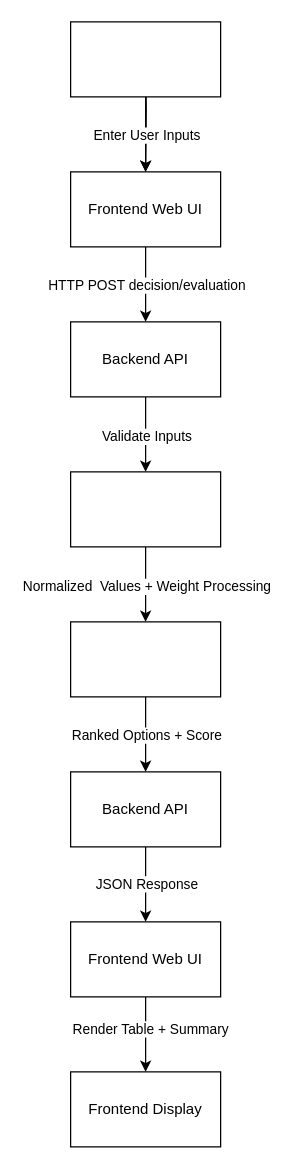
Image size: 291x1169. Some labels were removed from this diagram. The centre of each missing label's shape, as x and y in pixels:
"Decision Engine" goes at [145,659].
"Input Validation" goes at [145,509].
"User" goes at [145,59].
